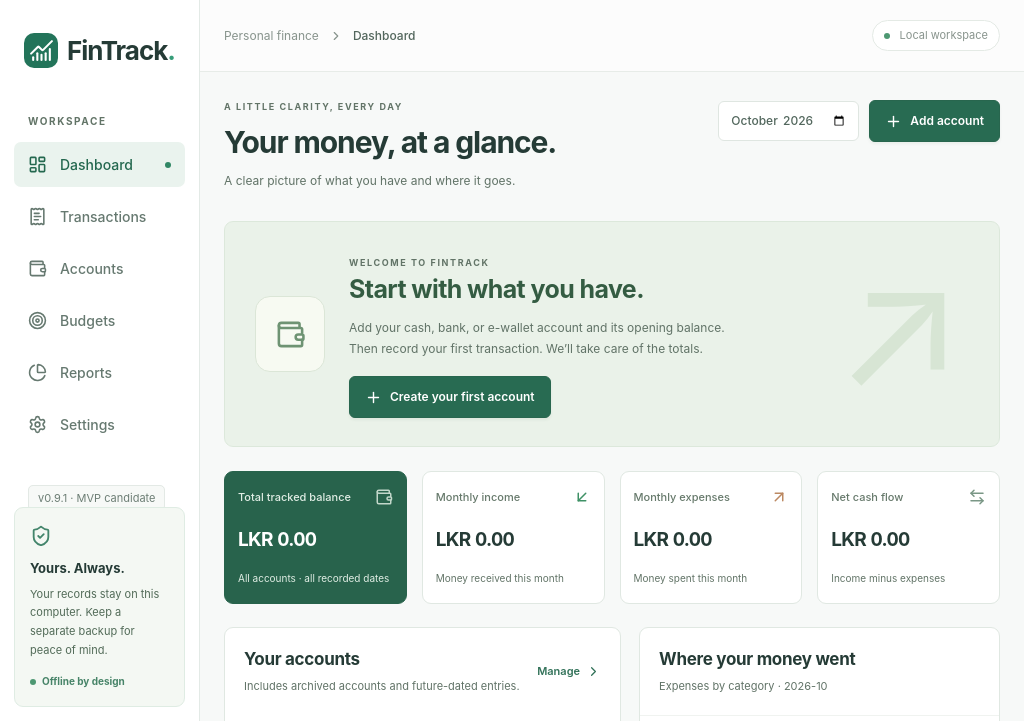
Test case: restore shows verified file contents before replacing records
This screenshot has width=1024, height=721.
Expected: the button "Create your first account" is shown, x1=349 y1=376 x2=551 y2=418
Click the button "Settings" at (100, 424), box x1=14 y1=402 x2=185 y2=447
(page scrolled)
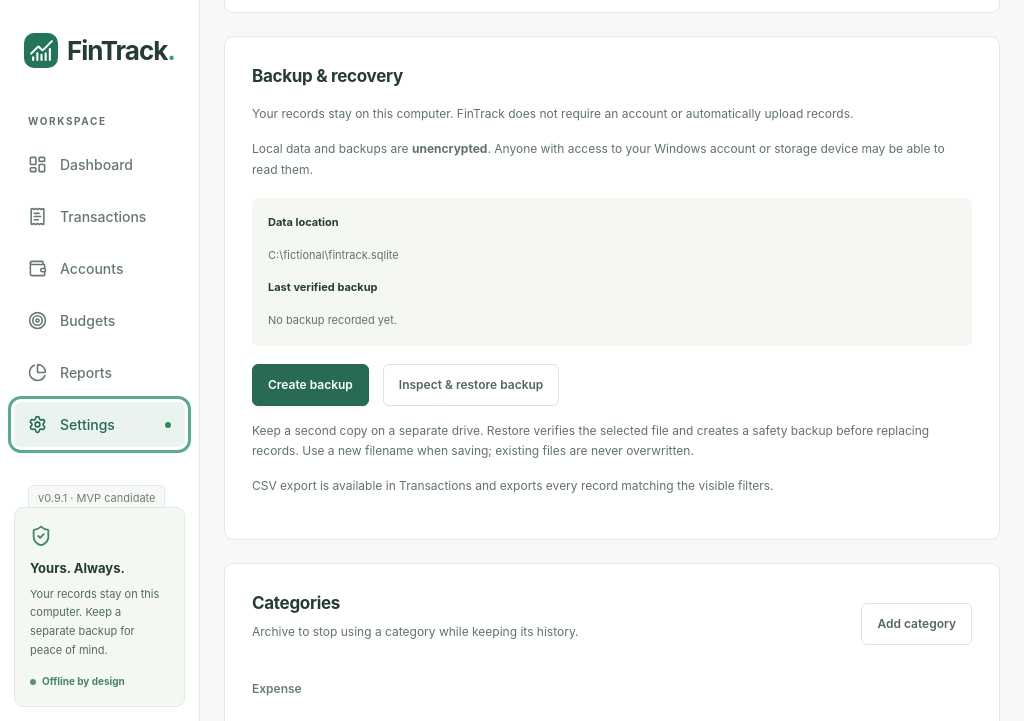
Click the button "Inspect & restore backup" at (471, 385), box x1=383 y1=364 x2=559 y2=406
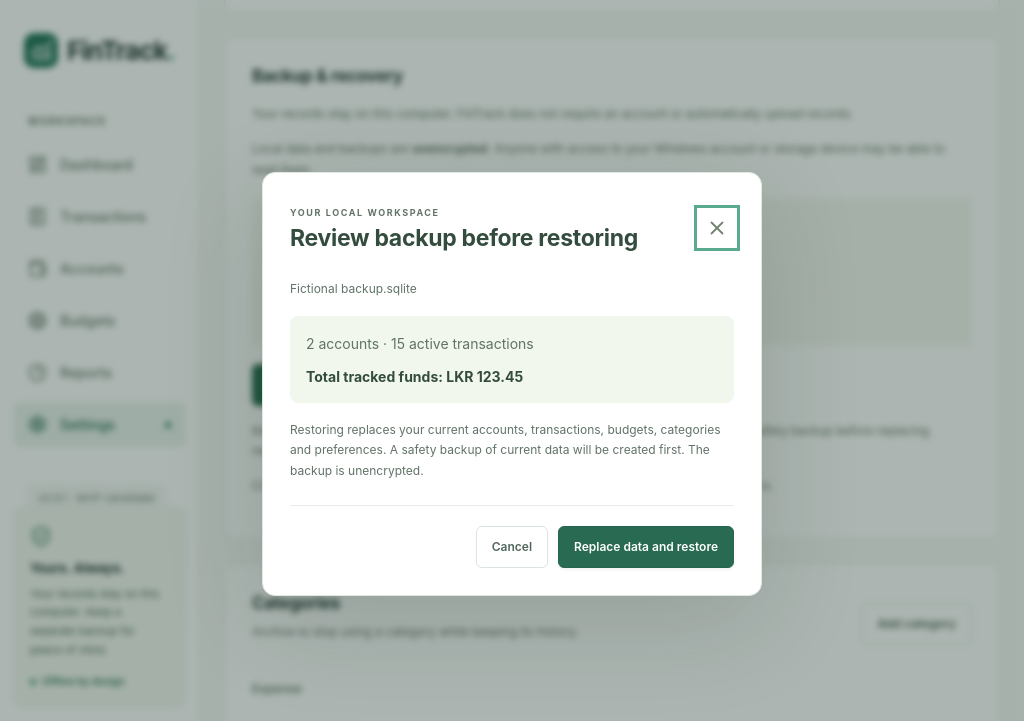
Now the text "2 accounts · 15 active transactions" is shown, box x1=306 y1=335 x2=534 y2=352
Click the button "Replace data and restore" at (646, 547), box x1=558 y1=526 x2=734 y2=568
(page scrolled)
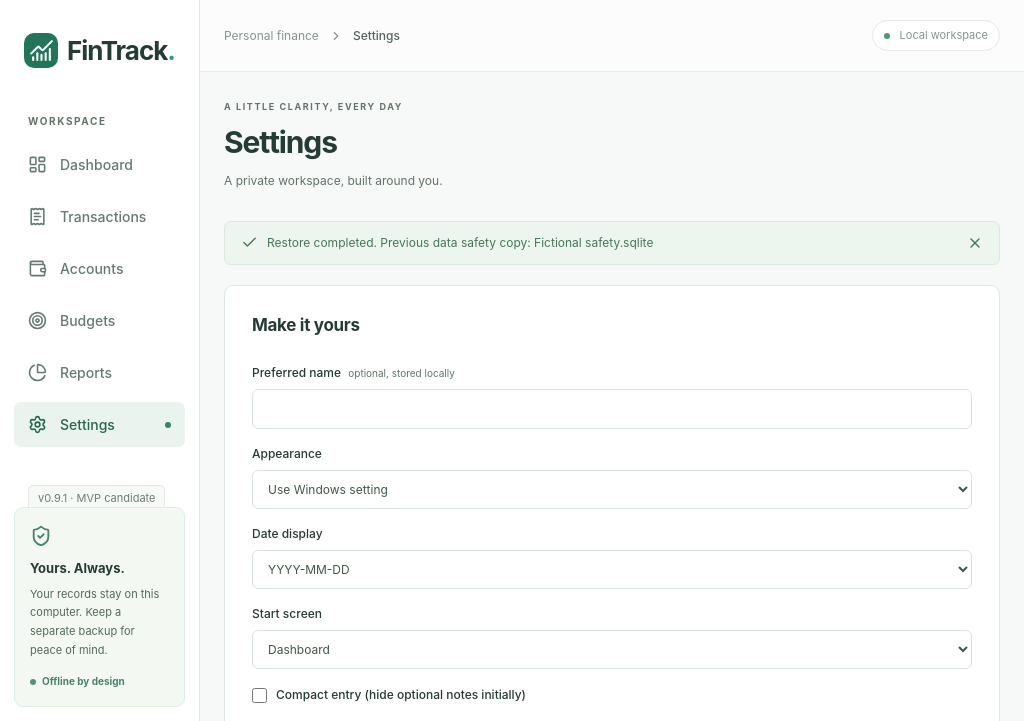
Now the text "Restore completed. Previous data safety copy: Fictional safety.sqlite" is shown, box x1=224 y1=221 x2=1000 y2=265
